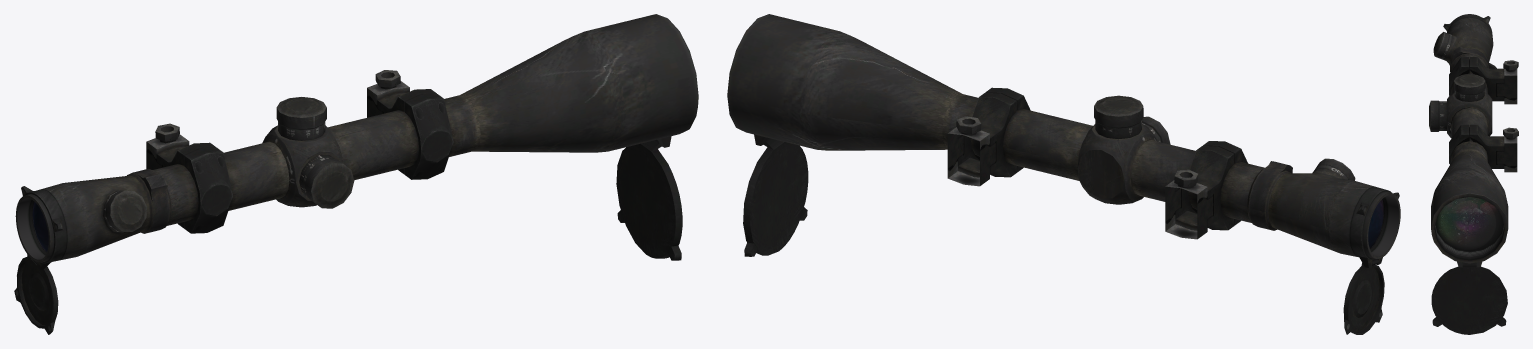
Rendered from t6_wpn_sniper_m82_scope_view_LOD0.obj.
3 renders of one model, left to right at view 1: azimuth 30°, elevation 25°; view 2: azimuth 150°, elevation 25°; view 3: azimuth 270°, elevation 25°, orthographic. The views are drawn at different scales.
Parts seen in each view (by area): view 1: mtl_t6_wpn_sniper_m82_scope_camo2, mtl_t6_wpn_sniper_m82_scope, mtl_t6_wpn_sniper_ballista_lens; view 2: mtl_t6_wpn_sniper_m82_scope_camo2, mtl_t6_wpn_sniper_m82_scope; view 3: mtl_t6_wpn_sniper_m82_scope, mtl_t6_wpn_sniper_m82_scope_camo2.
Part boxes in pixels (bbox=[...]): mtl_t6_wpn_sniper_m82_scope_camo2: bbox=[24, 14, 698, 263]; mtl_t6_wpn_sniper_m82_scope: bbox=[14, 70, 682, 334]; mtl_t6_wpn_sniper_ballista_lens: bbox=[32, 202, 48, 251]; mtl_t6_wpn_sniper_m82_scope_camo2: bbox=[727, 14, 1391, 259]; mtl_t6_wpn_sniper_m82_scope: bbox=[743, 87, 1400, 334]; mtl_t6_wpn_sniper_m82_scope: bbox=[1429, 14, 1518, 334]; mtl_t6_wpn_sniper_m82_scope_camo2: bbox=[1431, 14, 1517, 263].
Bounding box in the file's own units: 41.62 × 14.72 × 8.09.
Materials: 3 (3 with a texture image).
